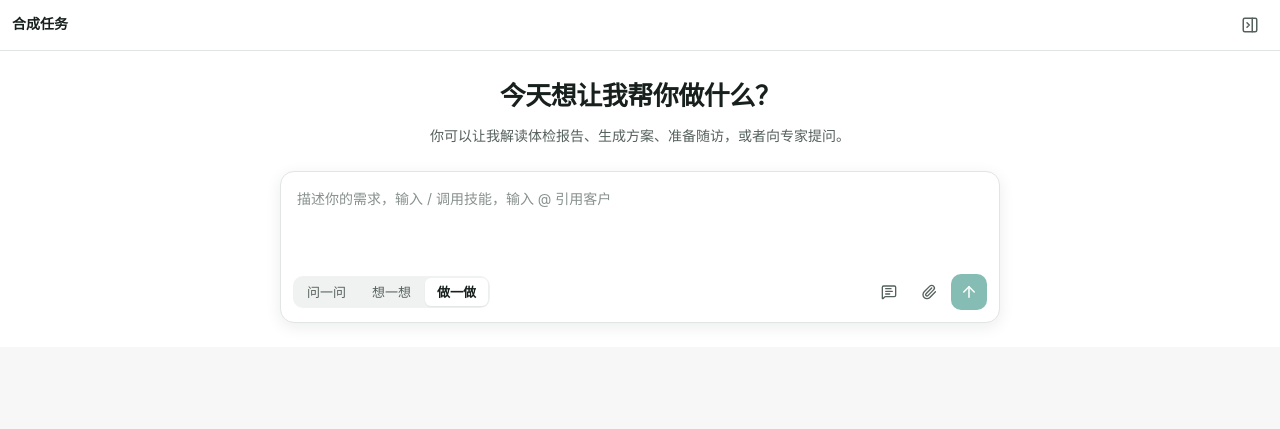
沿用意见的回答也置顶危机提示（规格 7.2 第 5 条） › SSE：有危机提示的回答不显示“请 @专家 看看”
The width and height of the screenshot is (1280, 429).
Expected: the text box is shown, [293,184,987,256]
Click the radio button labelled "问一问". click: (326, 292)
box: [295,278,358,306]
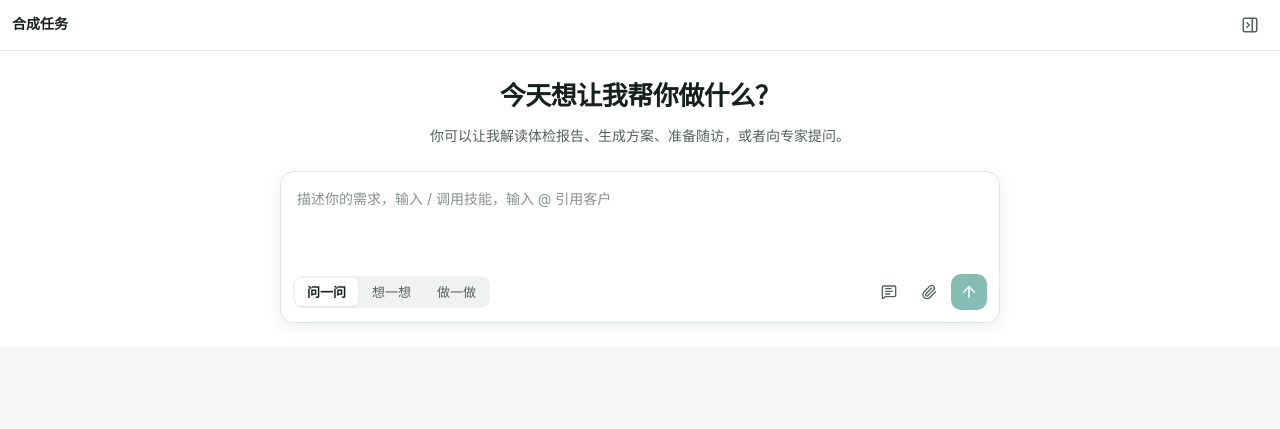
Type "合成问题" into the text box. click: (640, 220)
box: [293,184,987,256]
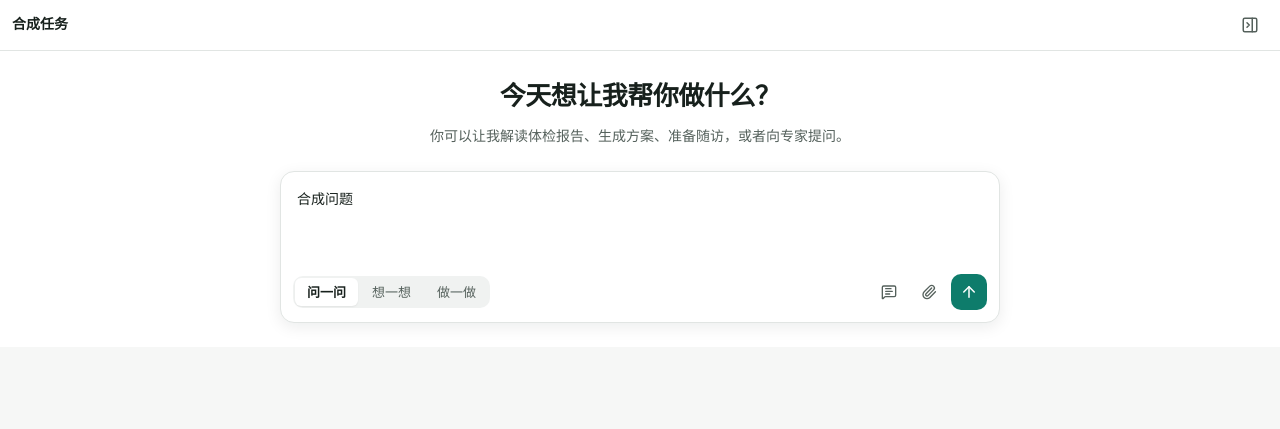
Click the button named "发送". click: (969, 292)
box: [951,274,987,310]
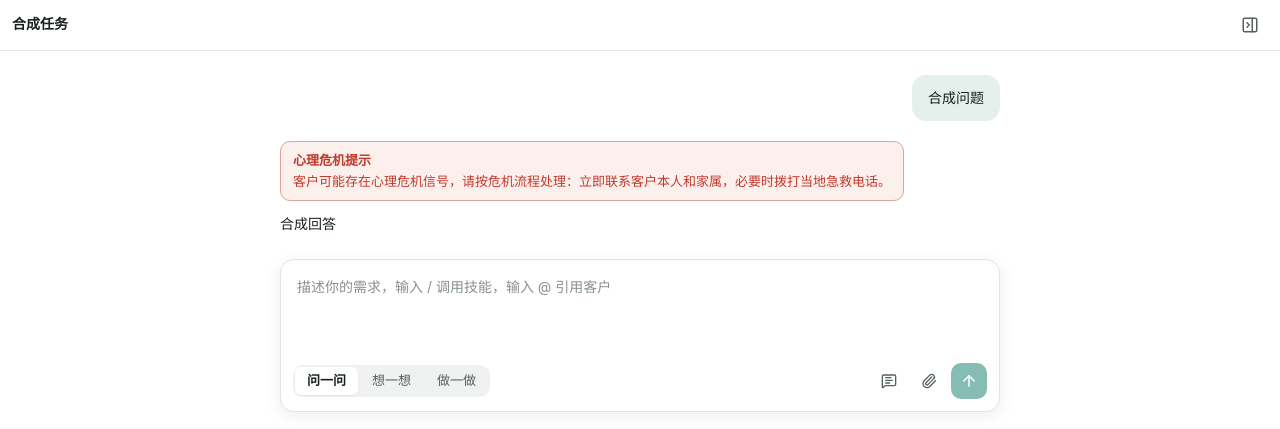
Result: the message shows "心理危机提示" at [293,152,371,168]
